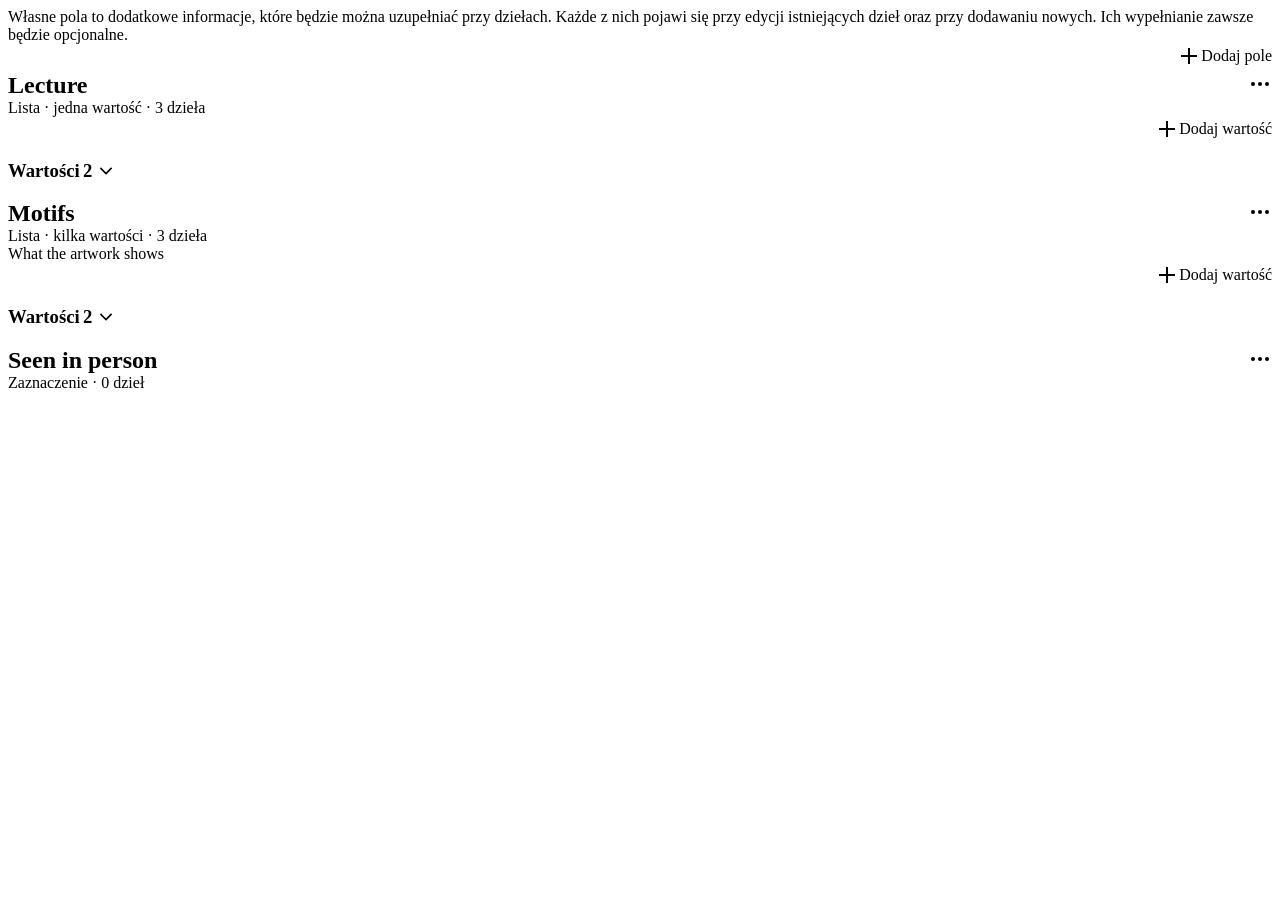
Test case: OwnFieldsTab › does not move the first field higher or the last one lower
What coordinates should you click on to do the following:
click the button named "Działania pola „Lecture”"
I would click on:
 (1260, 84)
Its box is [1248,72,1272,96].
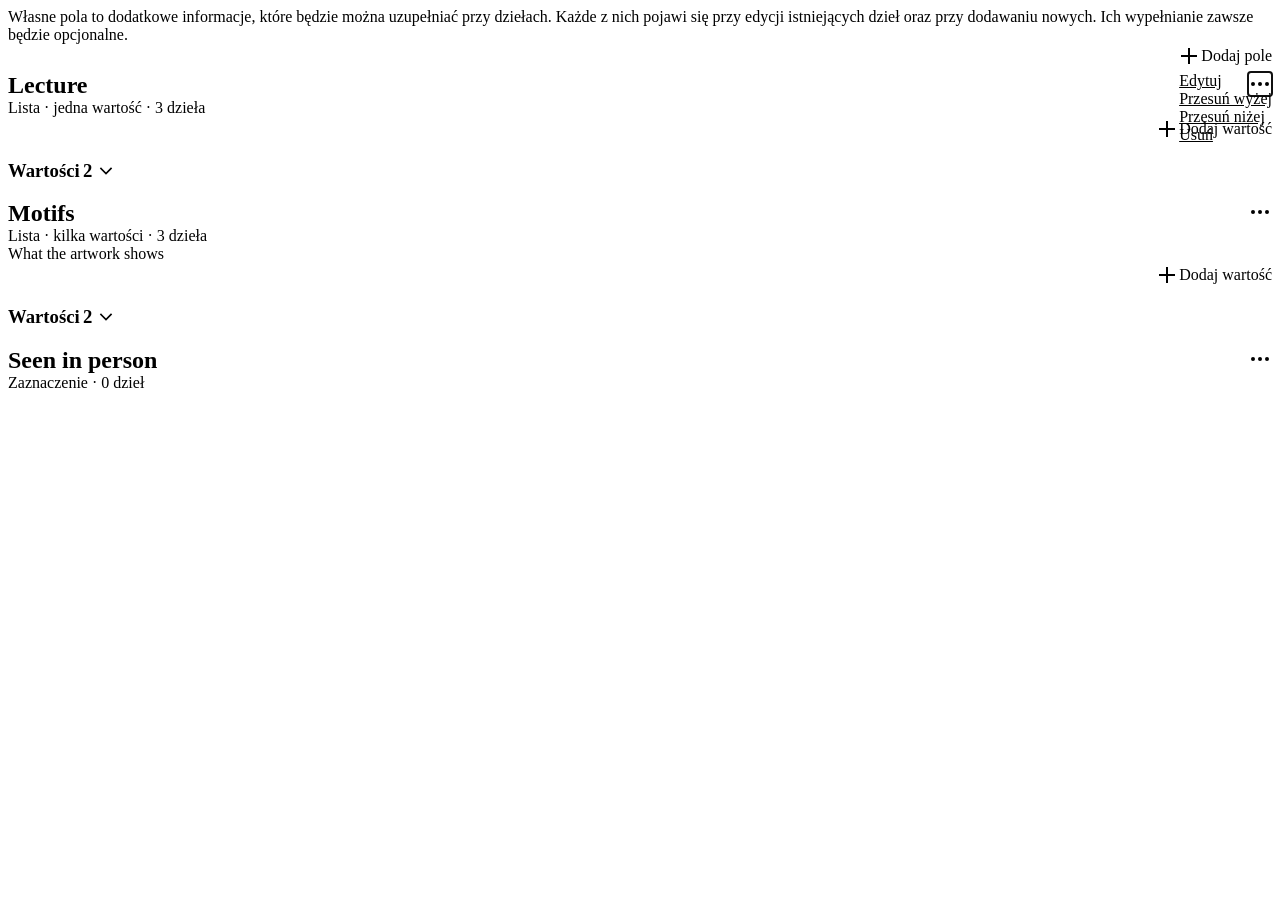
Expected: the button "Przesuń wyżej" is disabled, [1179,90,1272,108]
What coordinates should you click on to do the following:
click the button named "Działania pola „Seen in person”"
I would click on:
 (1260, 359)
Its box is [1248,347,1272,371].
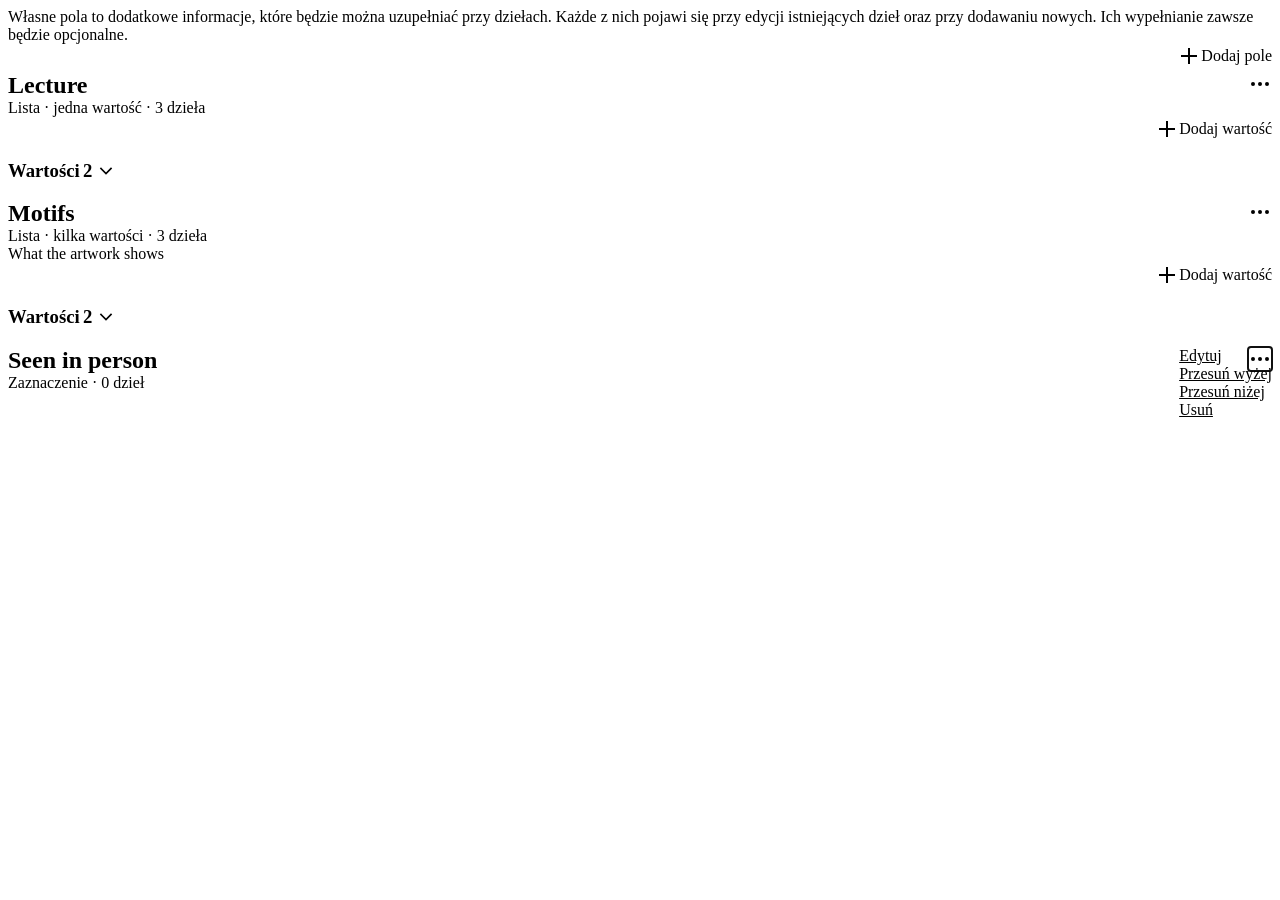
Expected: the button "Przesuń niżej" is disabled, [1179,383,1265,401]
